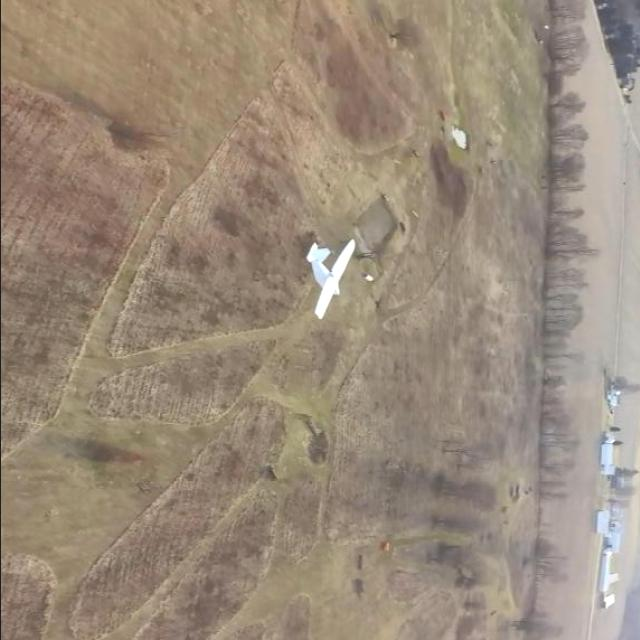plane: (304, 236, 356, 319)
